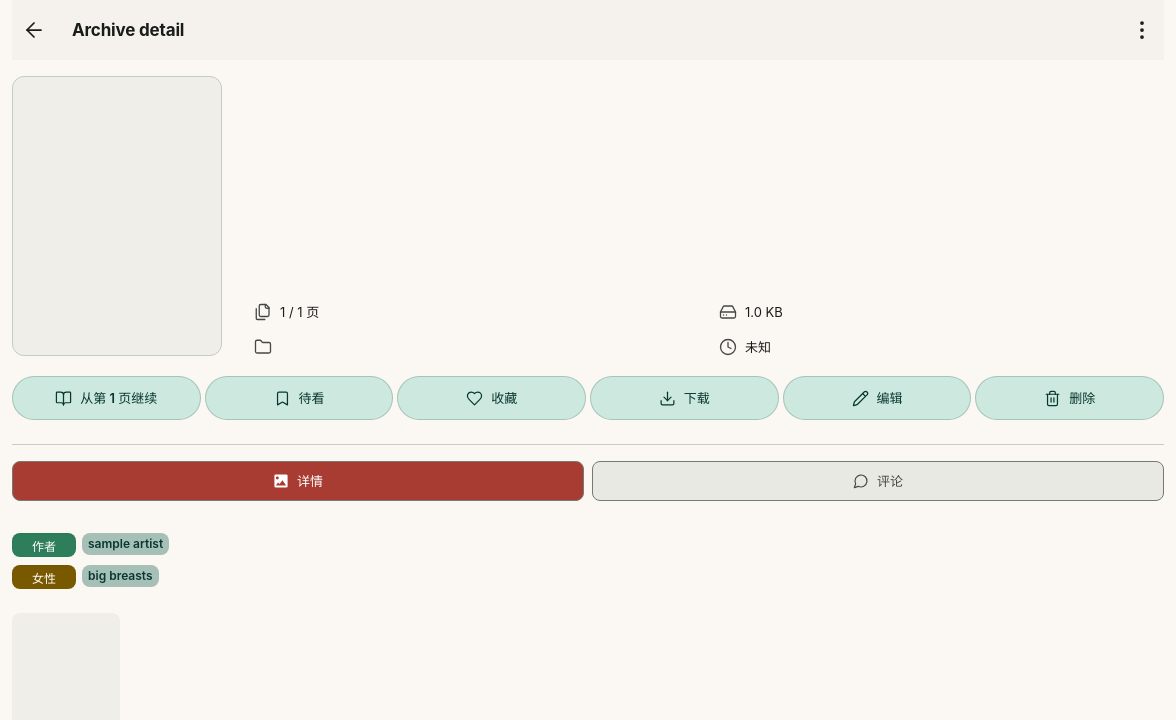
archive detail route › clears first-page progress from the configured surface (toolbar=false, pages=1)
The image size is (1176, 720).
expect the heading "Archive detail" is shown: met, box [72, 20, 184, 40]
Click the button named "档案菜单".
click(1142, 30)  # box [1120, 8, 1164, 52]
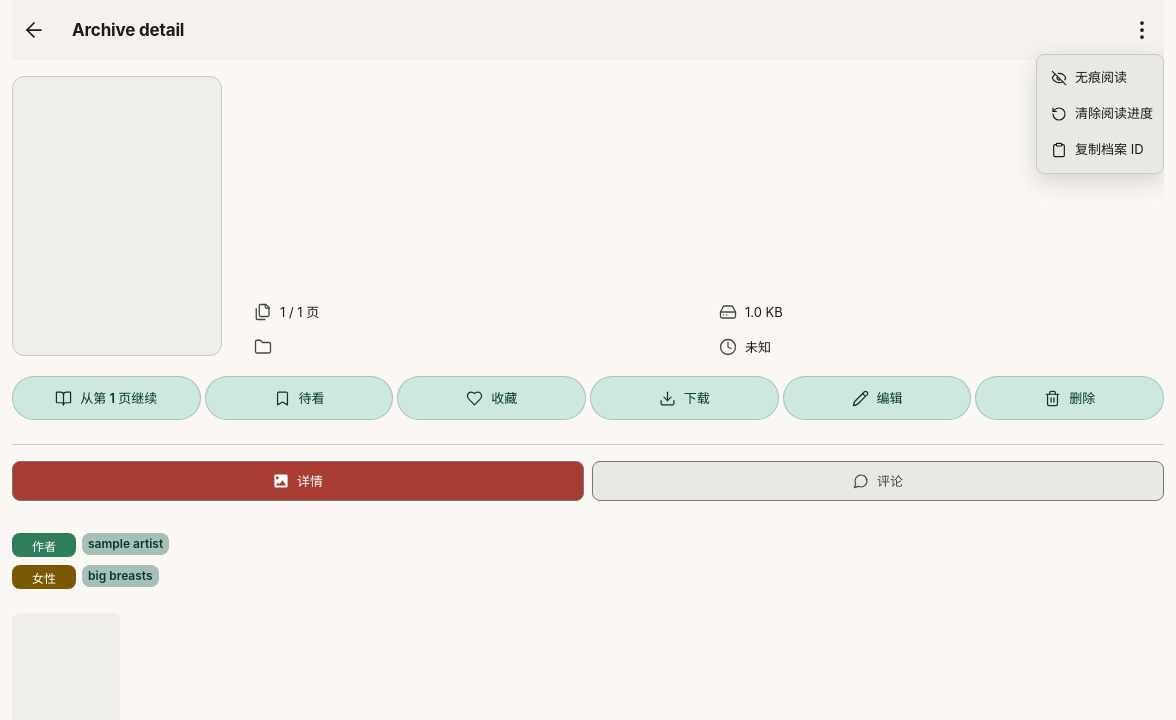
expect the menu item "无痕阅读" is shown: met, box [1051, 69, 1127, 86]
Click the menu item "清除阅读进度".
click(1102, 114)  # box [1051, 105, 1153, 122]
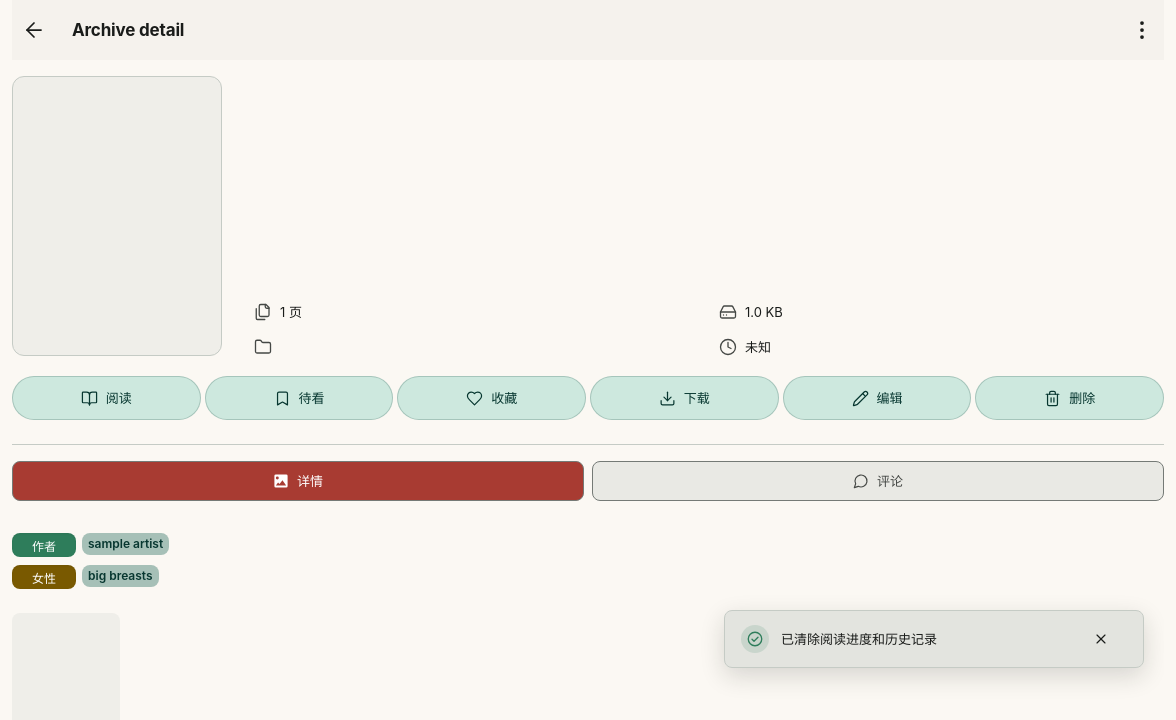
expect the text "1 页" is shown: met, box [280, 304, 302, 320]
expect the text "已清除阅读进度和历史记录" is shown: met, box [781, 631, 937, 647]
